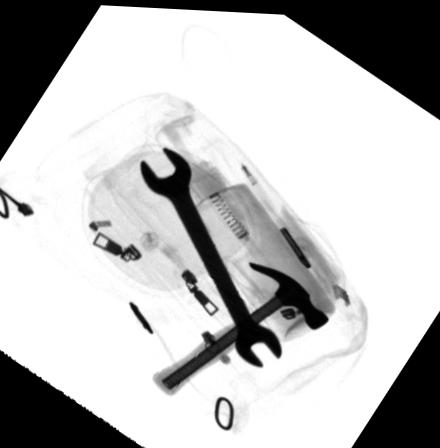Hammer: (153, 257, 331, 394)
Wrench: (139, 145, 282, 364)
